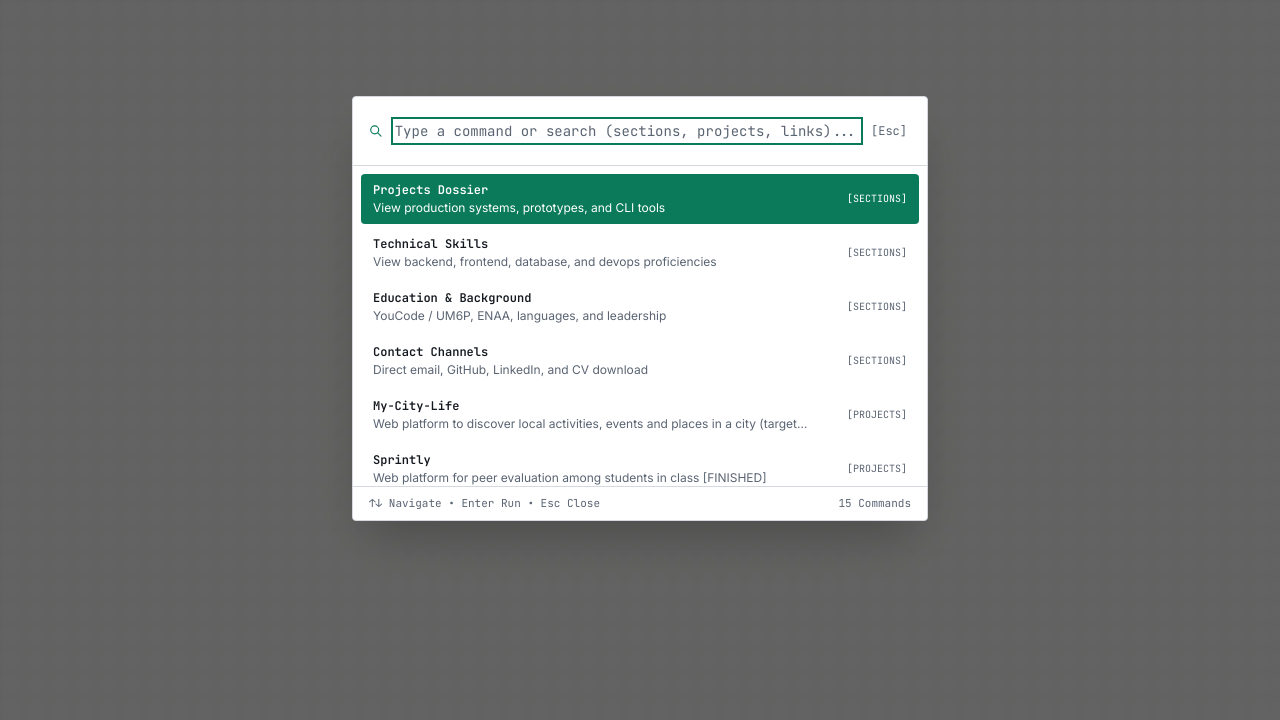
Test: CommandPalette Component › filters items correctly by query
The width and height of the screenshot is (1280, 720).
Type "sprintly" into the dropdown.
click(627, 131); type("sprintly")  # box [395, 121, 859, 141]
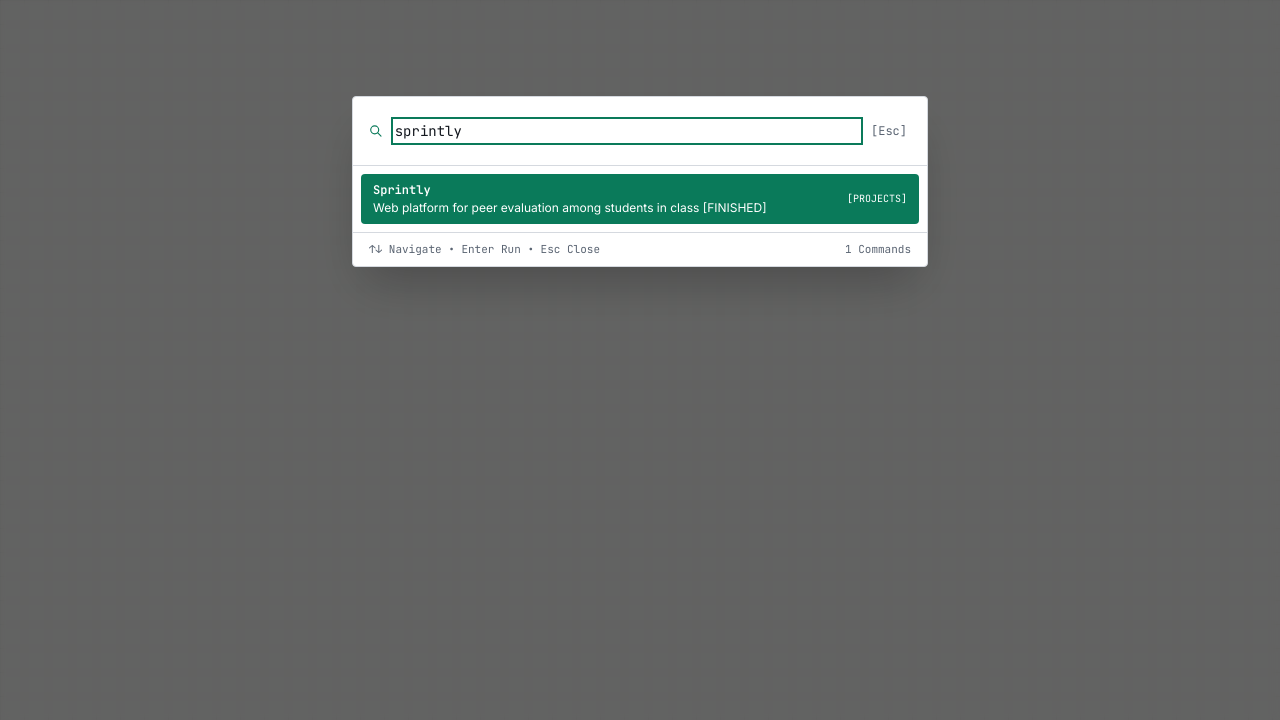
Expected: the text "Sprintly" is shown, [373, 182, 431, 198]
Now the option "My-City-Life" is gone
